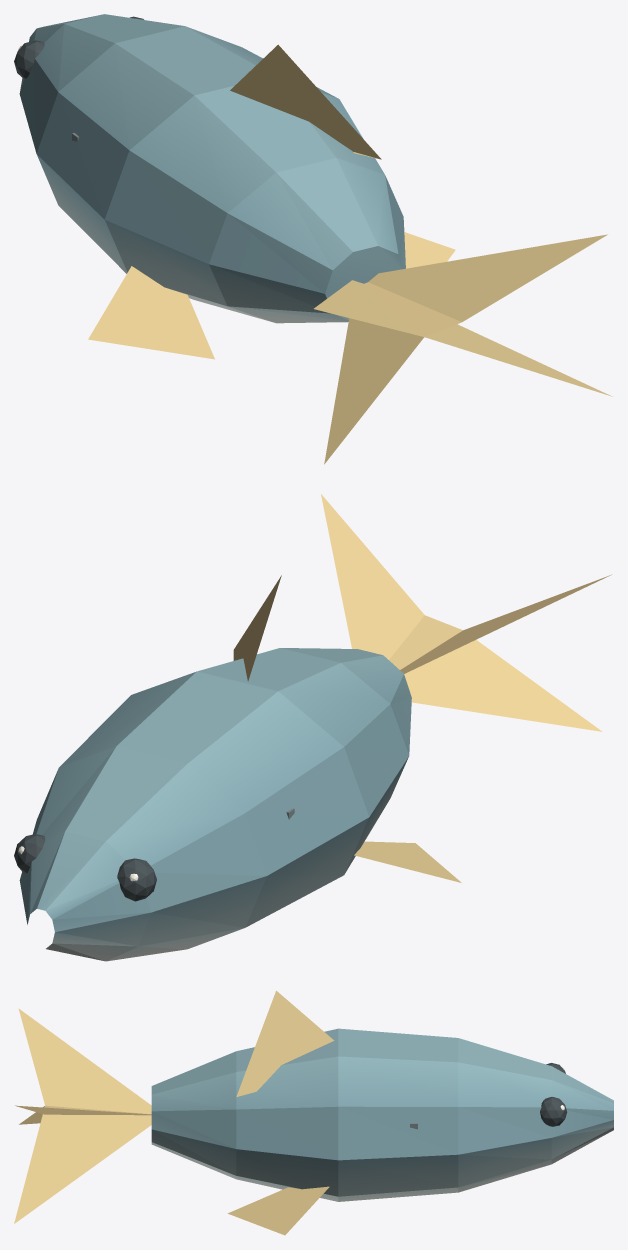
The model's file is fish_silver.glb.
The picture shows the model from 3 angles, top to bottom: view 1: azimuth 30°, elevation 25°; view 2: azimuth 150°, elevation 25°; view 3: azimuth 270°, elevation 25°; orthographic projection. The views are drawn at different scales.
Visible parts, largest first — view 1: Fish_Body, Tail_Fin_Swim_Pivot, Pectoral_Fin_-1, Dorsal_Fin, Pectoral_Fin_1, Eye_-1; view 2: Fish_Body, Tail_Fin_Swim_Pivot, Pectoral_Fin_-1, Dorsal_Fin, Eye_-1, Eye_1; view 3: Fish_Body, Tail_Fin_Swim_Pivot, Dorsal_Fin, Pectoral_Fin_1, Eye_1.
Boxes of the visible parts, bbox=[...] form: Fish_Body: bbox=[19, 14, 405, 323]; Tail_Fin_Swim_Pivot: bbox=[314, 234, 612, 464]; Pectoral_Fin_-1: bbox=[88, 266, 214, 359]; Dorsal_Fin: bbox=[230, 44, 381, 159]; Pectoral_Fin_1: bbox=[404, 232, 455, 268]; Eye_-1: bbox=[14, 40, 44, 79]; Fish_Body: bbox=[19, 648, 411, 961]; Tail_Fin_Swim_Pivot: bbox=[321, 494, 611, 731]; Pectoral_Fin_-1: bbox=[354, 841, 461, 882]; Dorsal_Fin: bbox=[233, 575, 281, 681]; Eye_-1: bbox=[117, 858, 156, 901]; Eye_1: bbox=[14, 834, 45, 874]; Fish_Body: bbox=[151, 1028, 613, 1201]; Tail_Fin_Swim_Pivot: bbox=[14, 1008, 151, 1223]; Dorsal_Fin: bbox=[236, 990, 334, 1096]; Pectoral_Fin_1: bbox=[227, 1186, 329, 1235]; Eye_1: bbox=[540, 1097, 567, 1126].
Size of the model in its own units: 0.68 by 0.4907 by 1.35.
